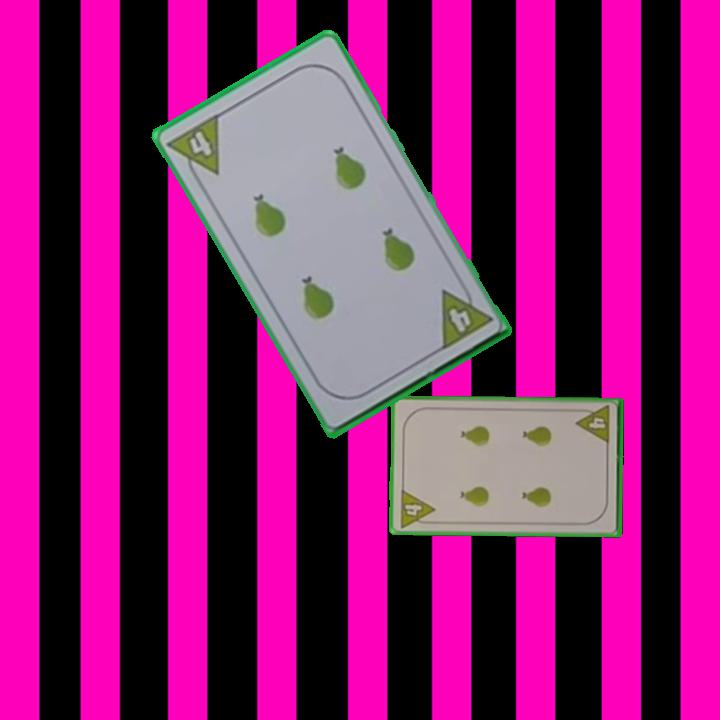4p: (163, 110, 222, 188), (436, 277, 495, 353), (396, 486, 437, 530), (573, 402, 613, 447)
